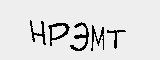М: (90, 22, 106, 53)
Н: (28, 17, 46, 49)
Р: (45, 21, 70, 49)
Т: (105, 26, 127, 54)
Э: (69, 19, 90, 53)
